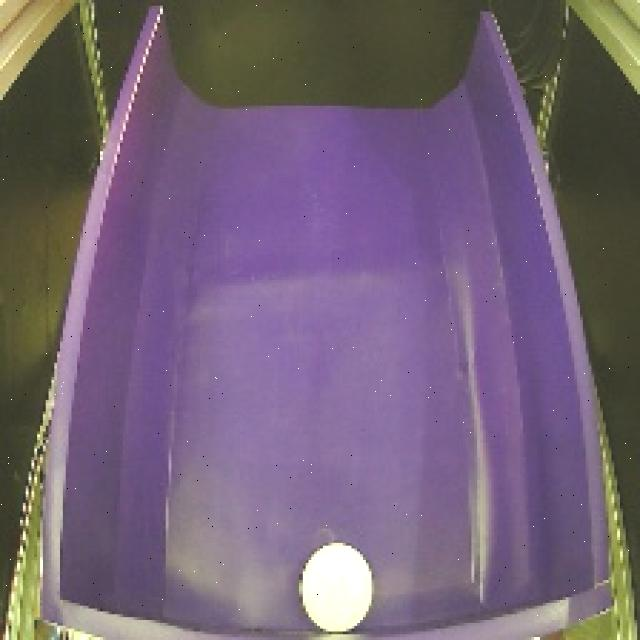small: (294, 537, 380, 640)
